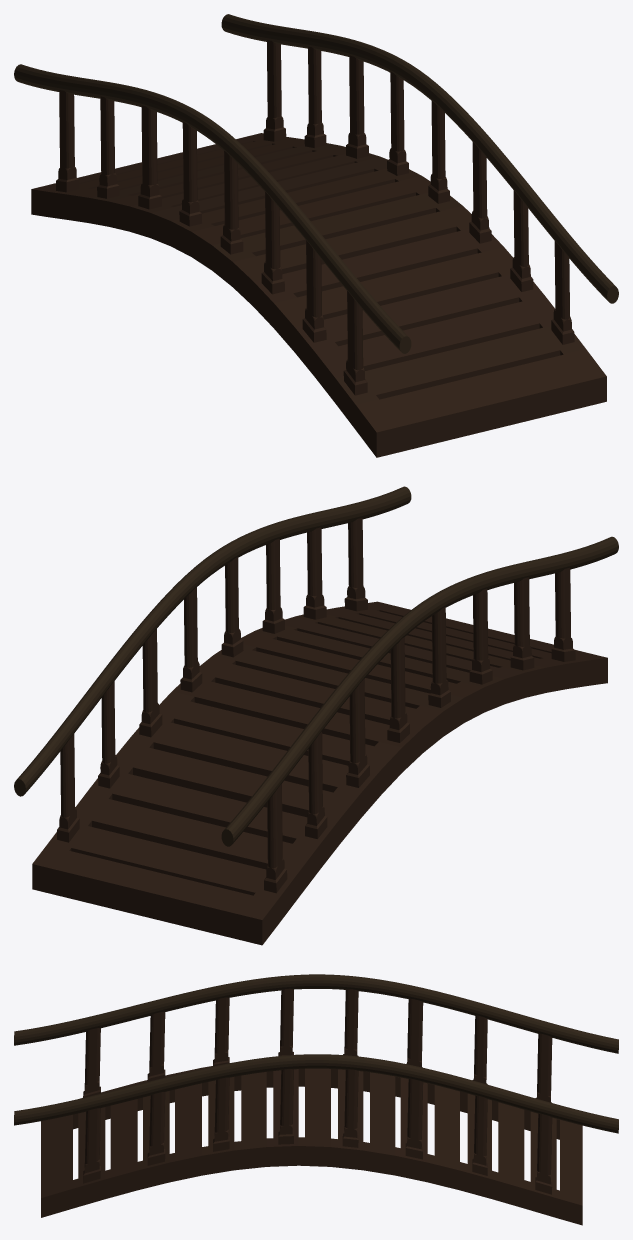
File: pont.fbx
3 views of the same model, one above another, from view 1: azimuth 30°, elevation 25°; view 2: azimuth 150°, elevation 25°; view 3: azimuth 270°, elevation 25° (orthographic). The views are drawn at different scales.
Visible parts, largest first — view 1: Cube; view 2: Cube; view 3: Cube.
Boxes of the visible parts, x1=… form: Cube: x1=14, y1=14, x2=618, y2=457; Cube: x1=14, y1=486, x2=618, y2=945; Cube: x1=14, y1=974, x2=618, y2=1225.
Size of the model in its own units: 1721 by 1522 by 4995.
